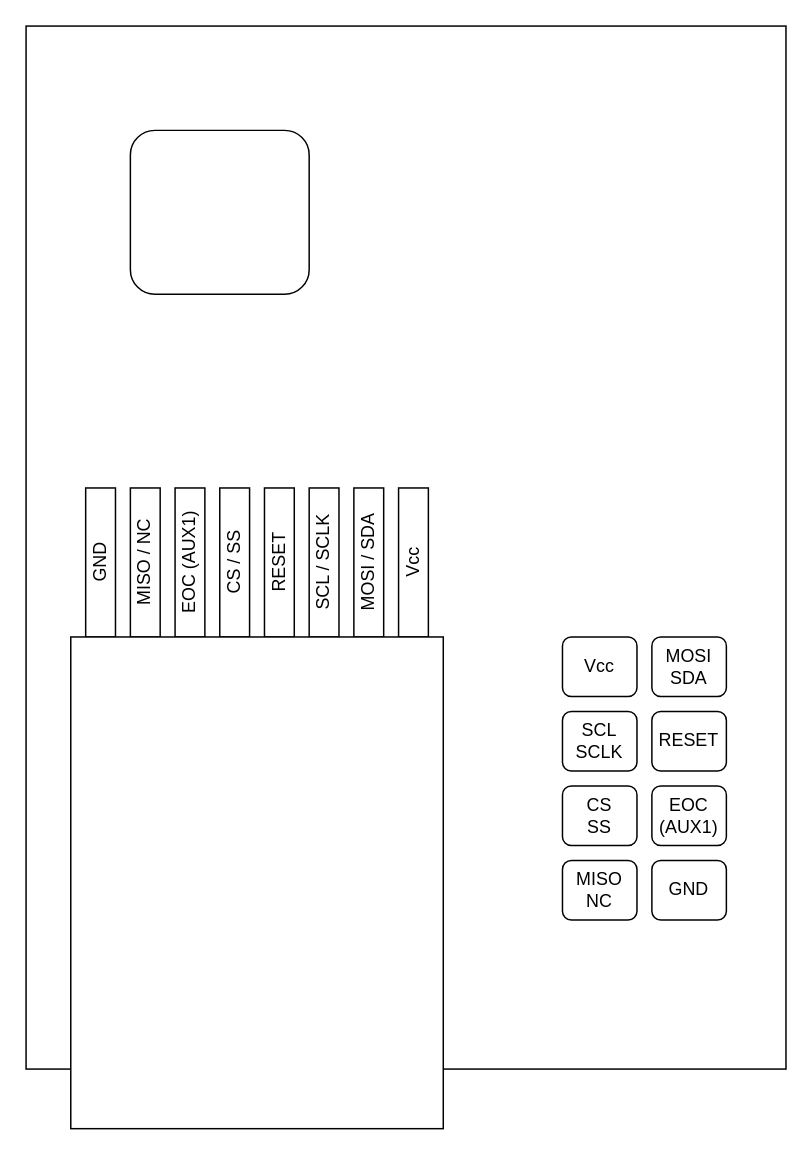
Some shapes in this 812 by 1155 pixel diagram are drawn without their labels. The box of each missing label's shape, as (x1, y1, x2, y2) in pixels:
RJ-45 Ethernet: (69, 635, 443, 1129)
Sensor: (129, 129, 309, 294)
